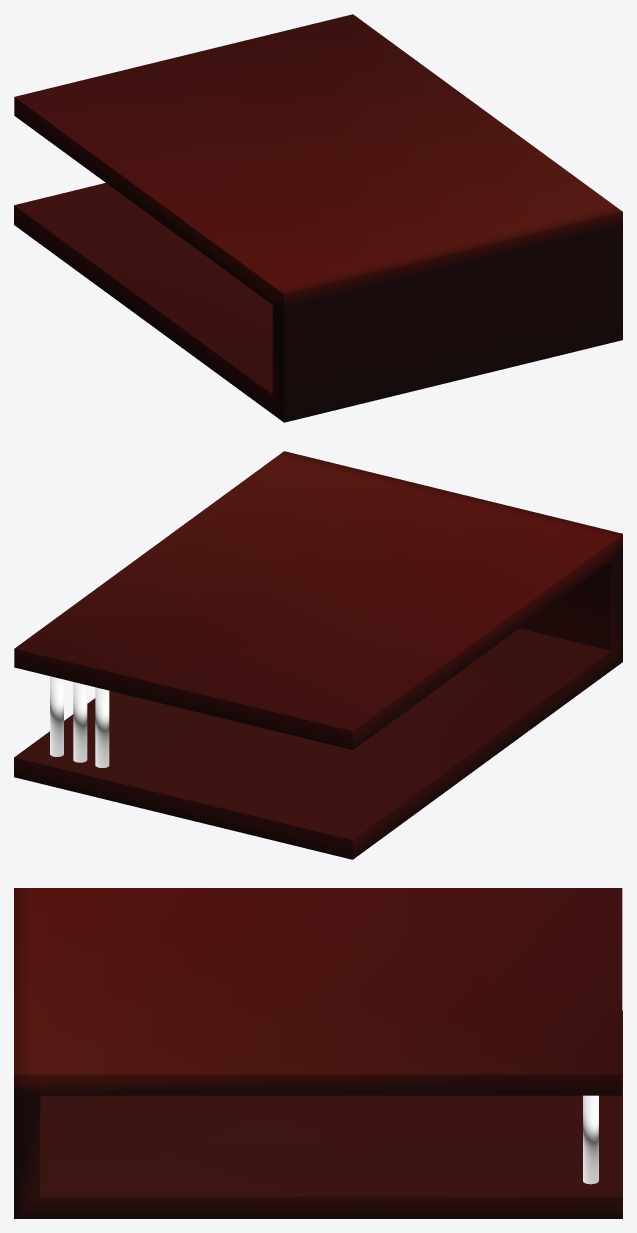
The model's file is table1.dae.
3 views of the same model, one above another, from view 1: azimuth 30°, elevation 25°; view 2: azimuth 150°, elevation 25°; view 3: azimuth 270°, elevation 25° (orthographic). The views are drawn at different scales.
Parts seen in each view (by area): view 1: low_table; view 2: low_table; view 3: low_table.
Boxes of the visible parts, x1=… form: low_table: x1=14, y1=14, x2=622, y2=422; low_table: x1=14, y1=451, x2=622, y2=859; low_table: x1=14, y1=888, x2=622, y2=1218.
Bounding box in the file's own units: 0.837 × 1.16 × 0.3029.
